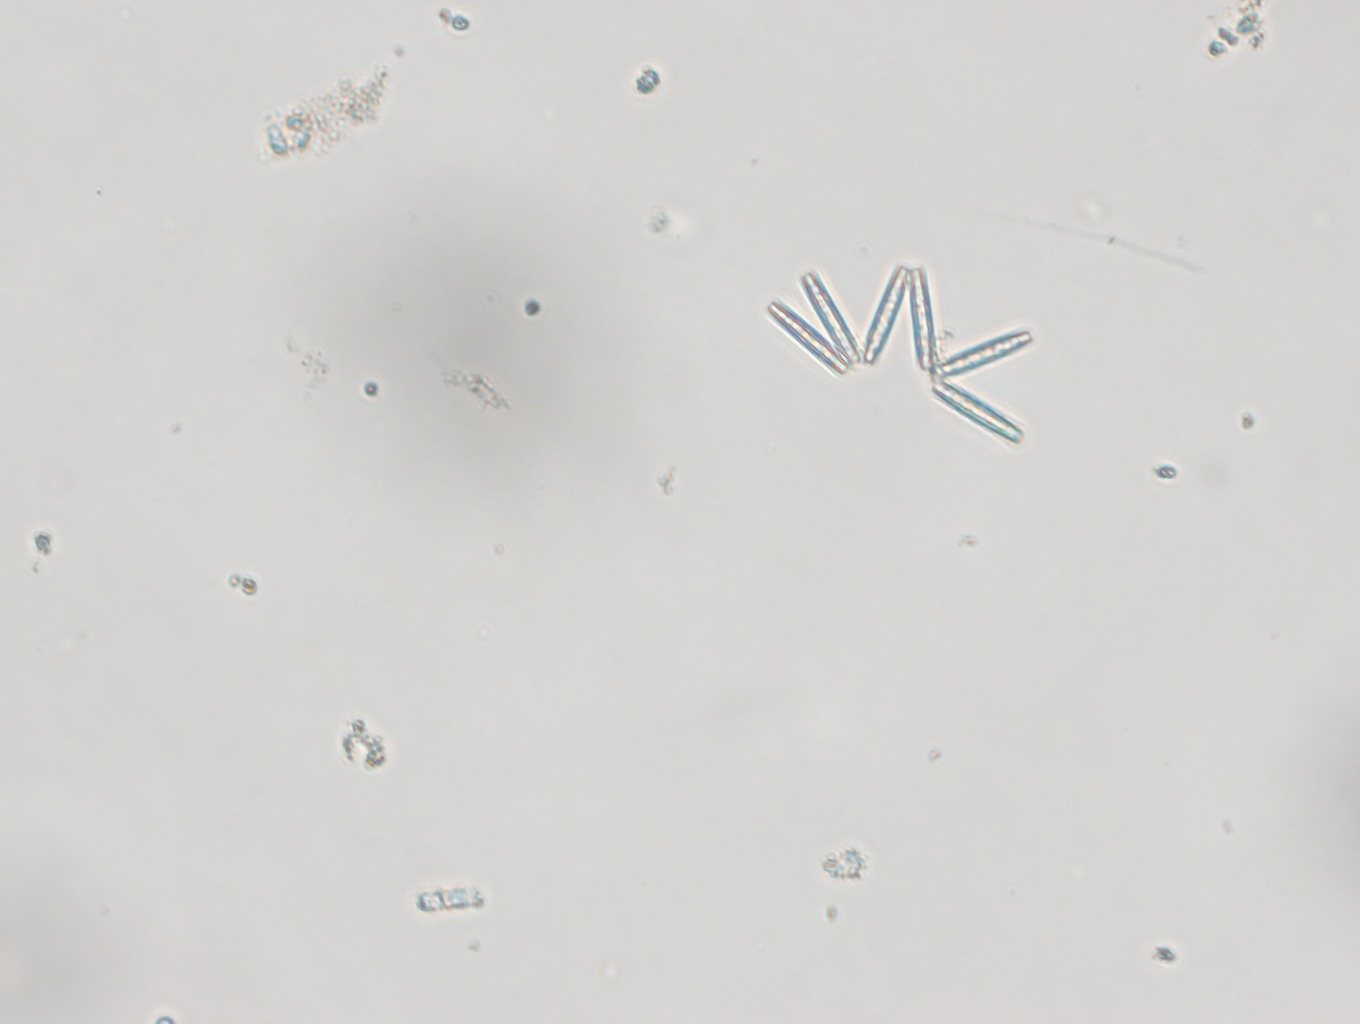thalassionema nitzschioides: (763, 262, 1033, 445)
